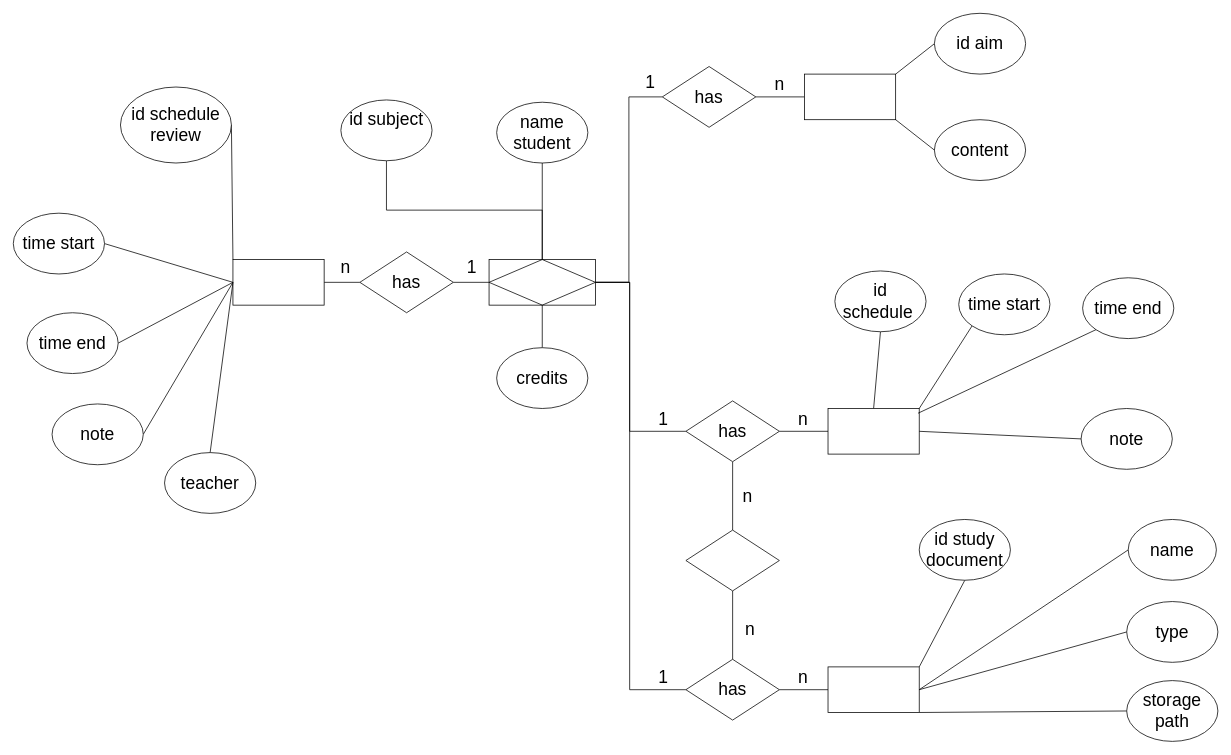
Some shapes in this 1231 by 755 pixel diagram are drawn without their labels. Each missing label, with the centre of its shape:
aim: pixel 850 96
schedule review: pixel 278 282
schedule study: pixel 873 431
study document: pixel 873 689
subject: pixel 541 282
use: pixel 732 560
